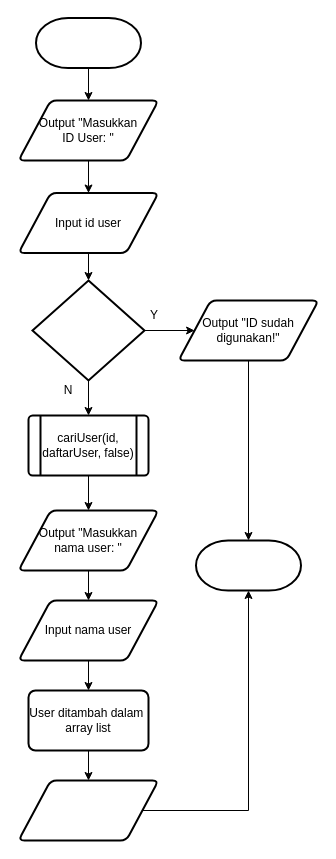
Image size: 336x859. Some labels were removed from this diagram. Each missing label, with the centre of its shape:
cariUser() != null: point 88,330
Output "User berhasil ditambahkan ": point 88,810
return: point 248,565
tambahUser(): point 88,42
